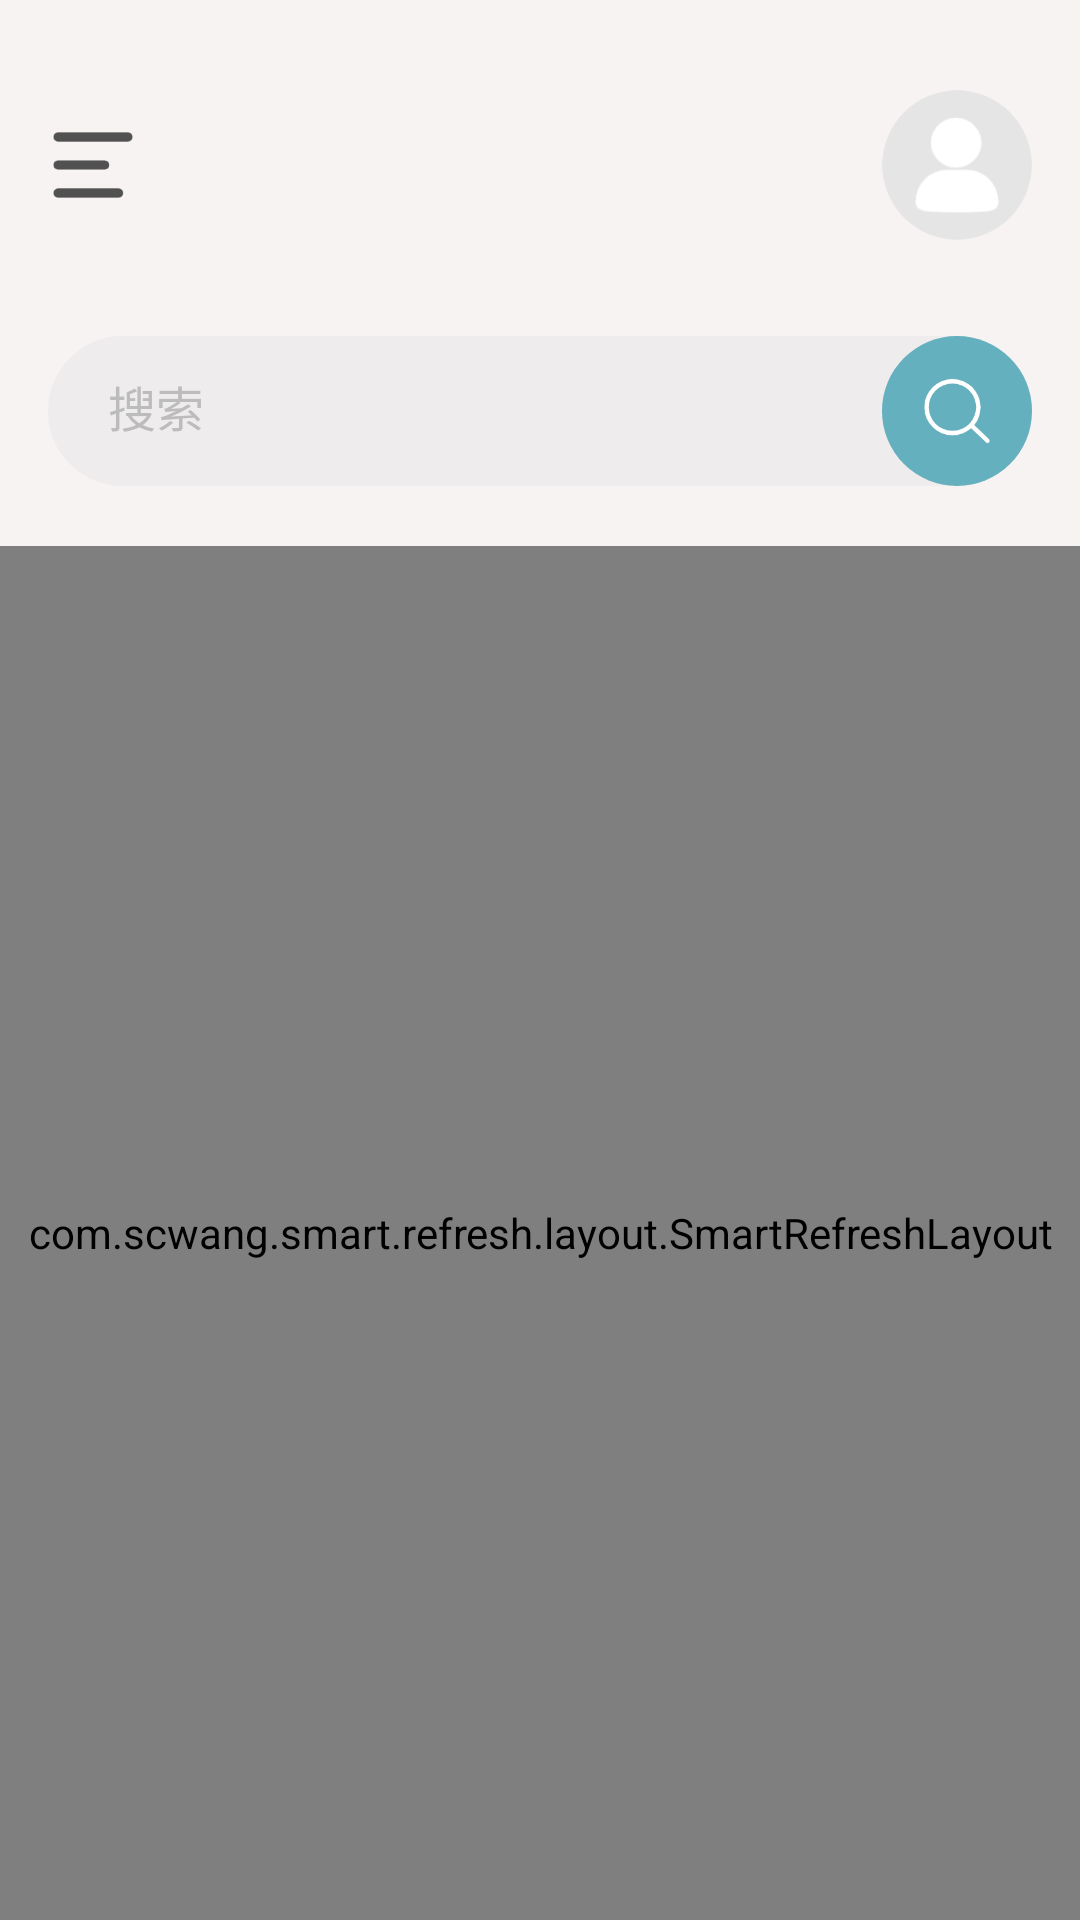

Screen size 1080 x 1920. Icon name, then its center in pixels as point (x, y):
search: point (957, 411)
